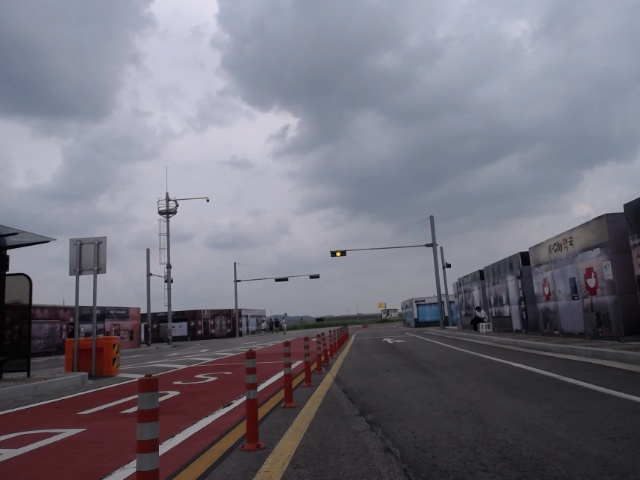orange_3: (330, 250, 346, 257)
